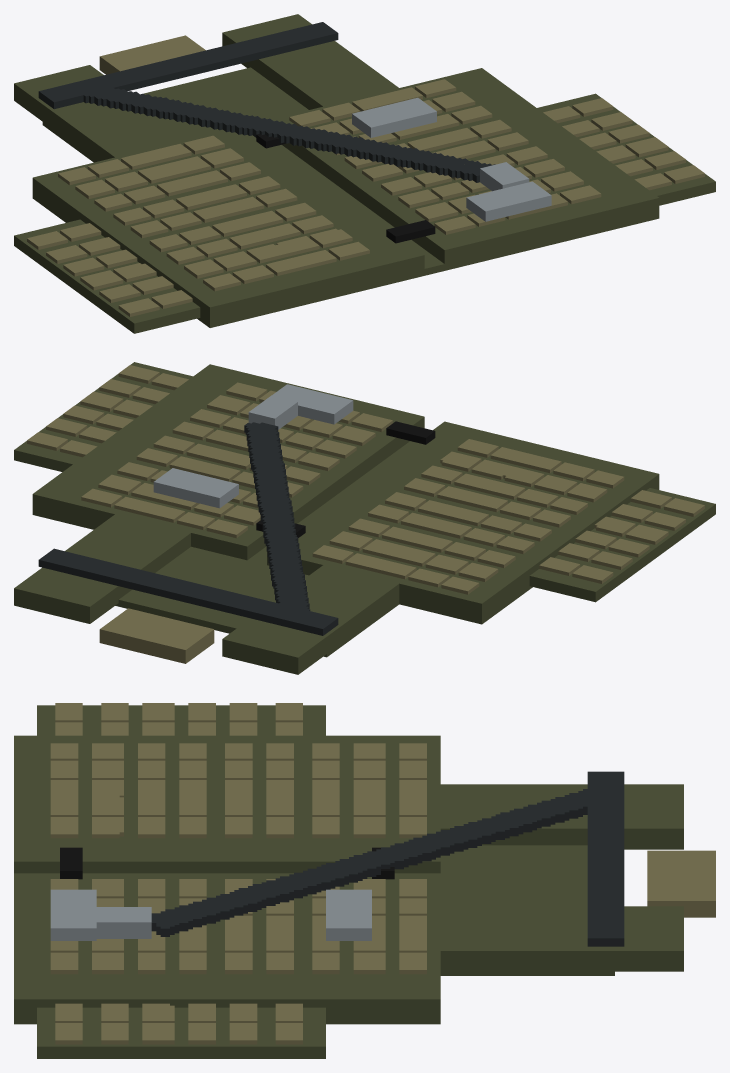
The model's file is heavy_load_bearing_vest_breacher.glb.
The picture shows the model from 3 angles, top to bottom: view 1: azimuth 30°, elevation 25°; view 2: azimuth 150°, elevation 25°; view 3: azimuth 270°, elevation 25°; orthographic projection. The views are drawn at different scales.
Parts seen in each view (by area): view 1: heavy_load_bearing_vest_breacher:compound; view 2: heavy_load_bearing_vest_breacher:compound; view 3: heavy_load_bearing_vest_breacher:compound.
Boxes of the visible parts, <box> form: heavy_load_bearing_vest_breacher:compound: <box>14,14,715,333</box>; heavy_load_bearing_vest_breacher:compound: <box>14,362,715,674</box>; heavy_load_bearing_vest_breacher:compound: <box>14,703,715,1058</box>.
Size of the model in its own units: 0.704 by 0.044 by 0.612.
